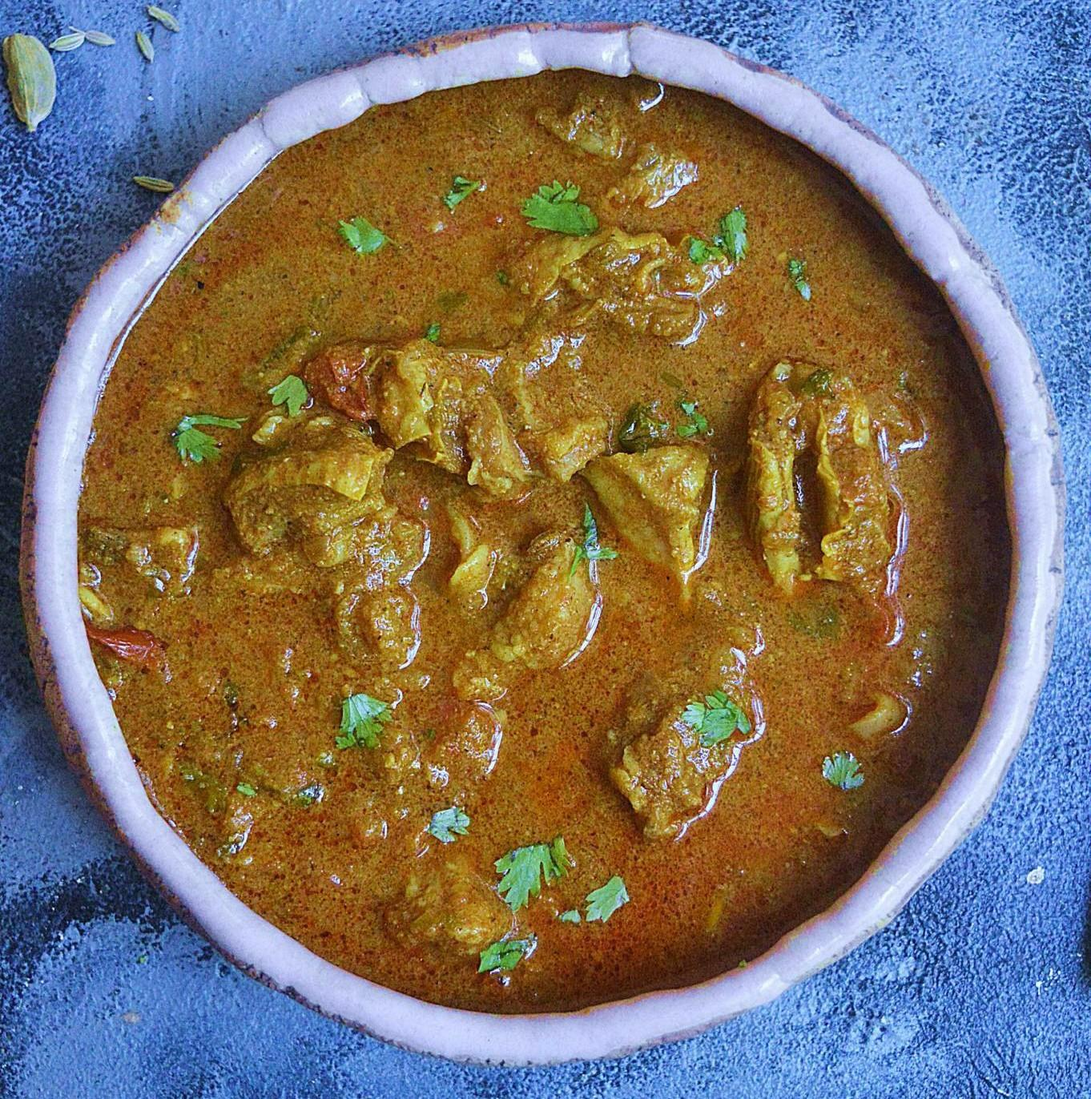MuttonCurry: (89, 73, 1001, 1016)
